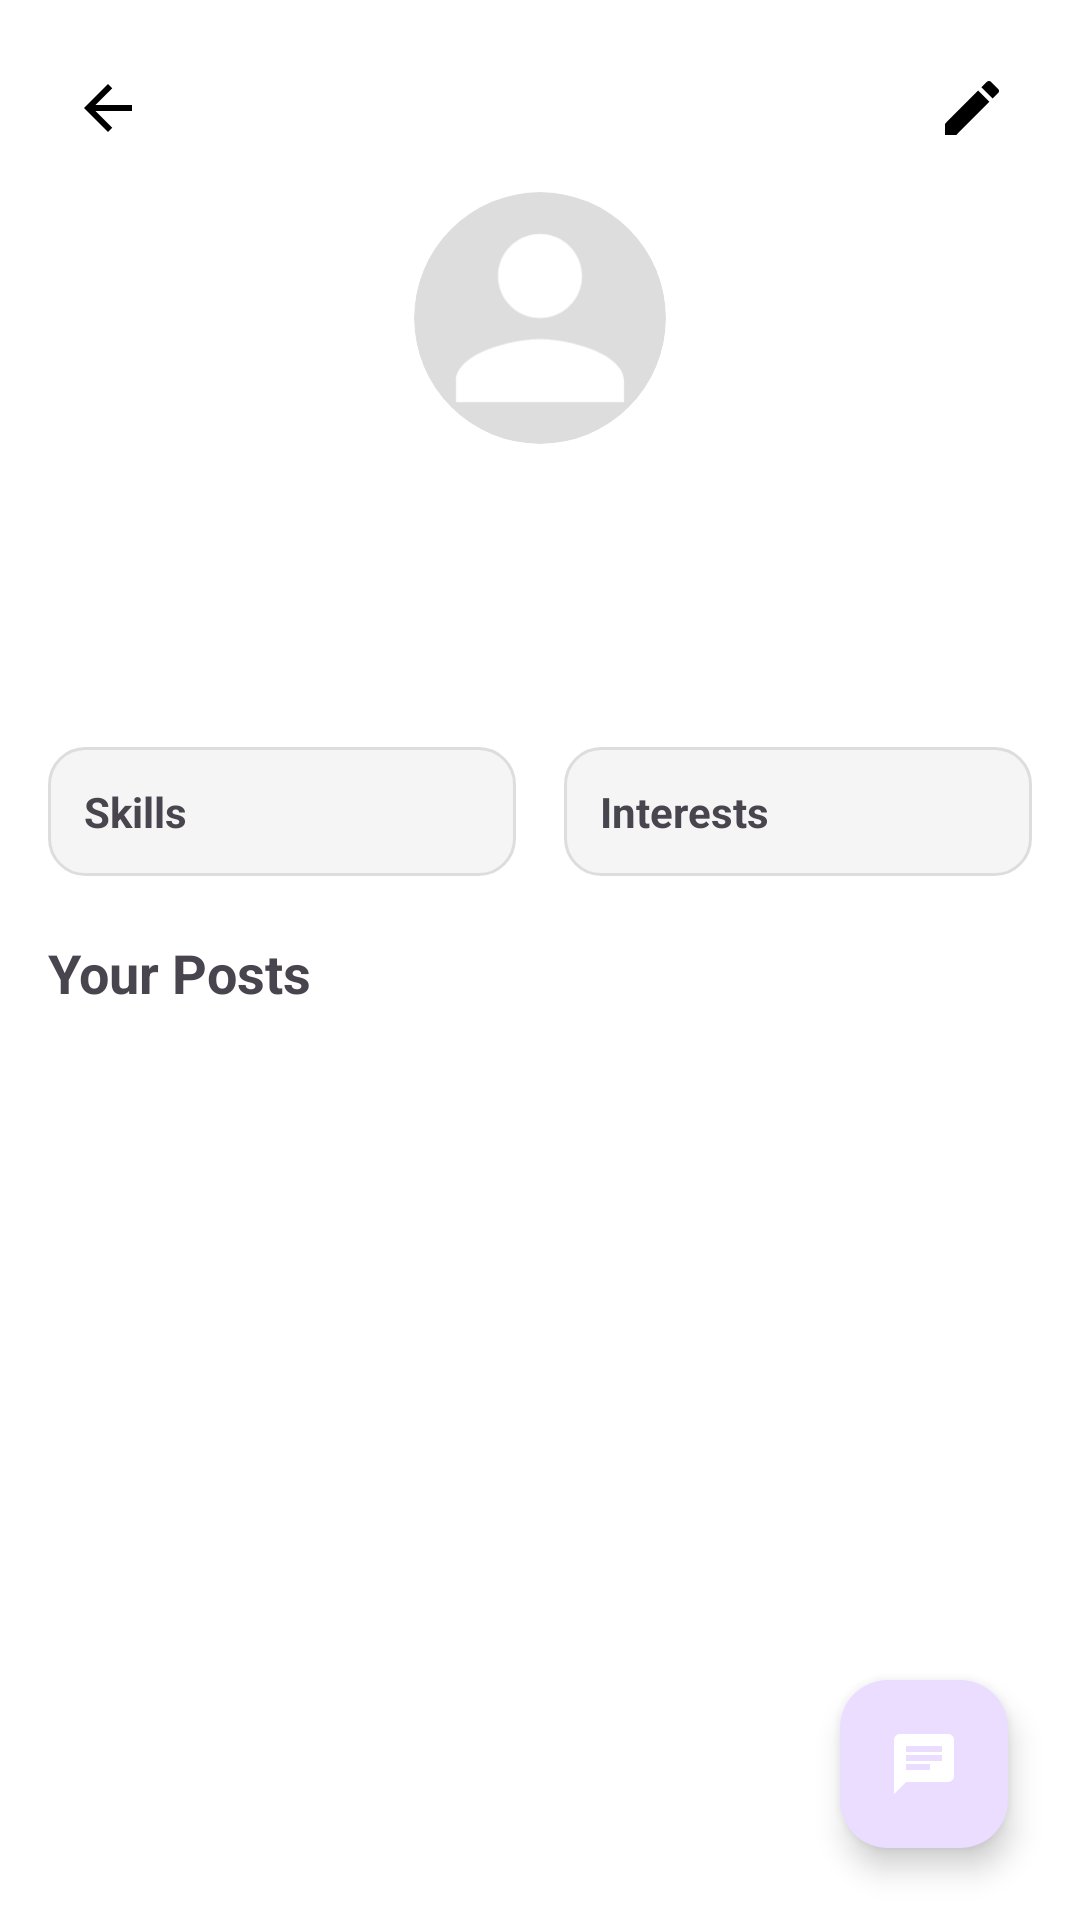

Where to tap for icons on this 1080x1920 app screen, as (x,y):
Back: (108,108)
Edit Profile: (972,108)
Message user: (924,1764)
